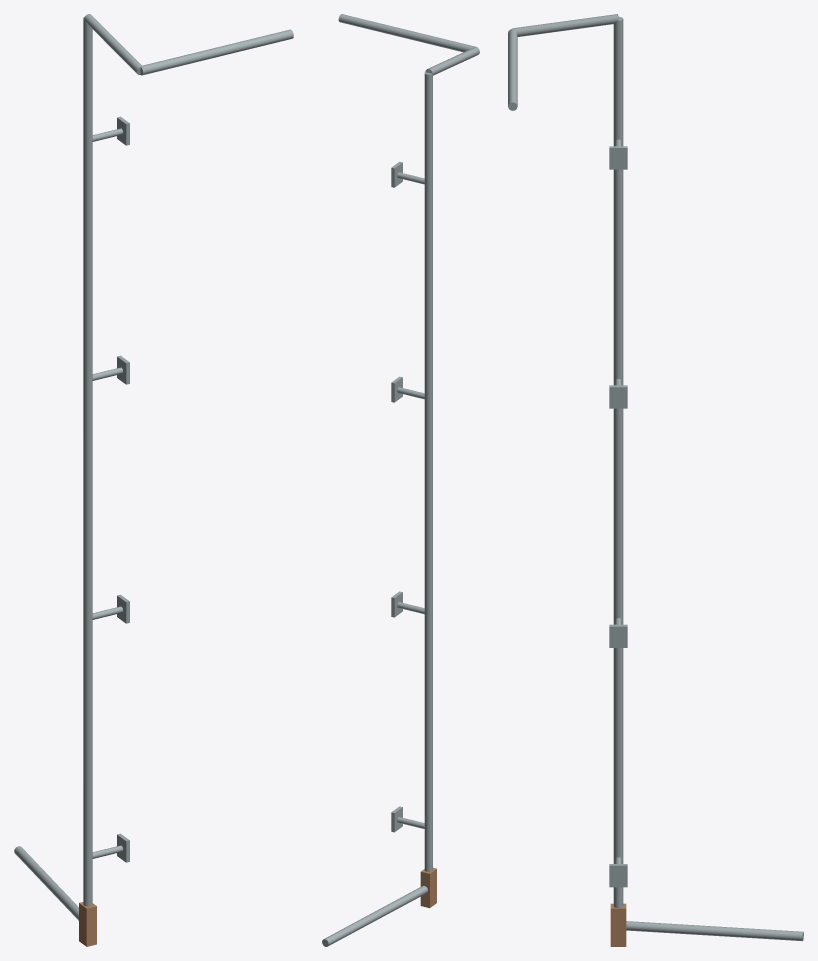
The model's file is mine-downlead-distribution.glb.
3 views of the same model, side by side, from view 1: azimuth 30°, elevation 25°; view 2: azimuth 150°, elevation 25°; view 3: azimuth 270°, elevation 25° (orthographic). The views are drawn at different scales.
Visible parts, largest first — view 1: down-conductor__main__Protection_metal, down-conductor__main__Protection_copper; view 2: down-conductor__main__Protection_metal, down-conductor__main__Protection_copper; view 3: down-conductor__main__Protection_metal, down-conductor__main__Protection_copper.
Part boxes in pixels (x1,y1,x2,y2): down-conductor__main__Protection_metal: (14,14,293,920); down-conductor__main__Protection_copper: (79,902,96,946); down-conductor__main__Protection_metal: (322,14,479,946); down-conductor__main__Protection_copper: (420,867,436,908); down-conductor__main__Protection_metal: (508,14,803,941); down-conductor__main__Protection_copper: (610,903,626,946).
Bounding box in the file's own units: 0.6825 × 3.89 × 1.12.
